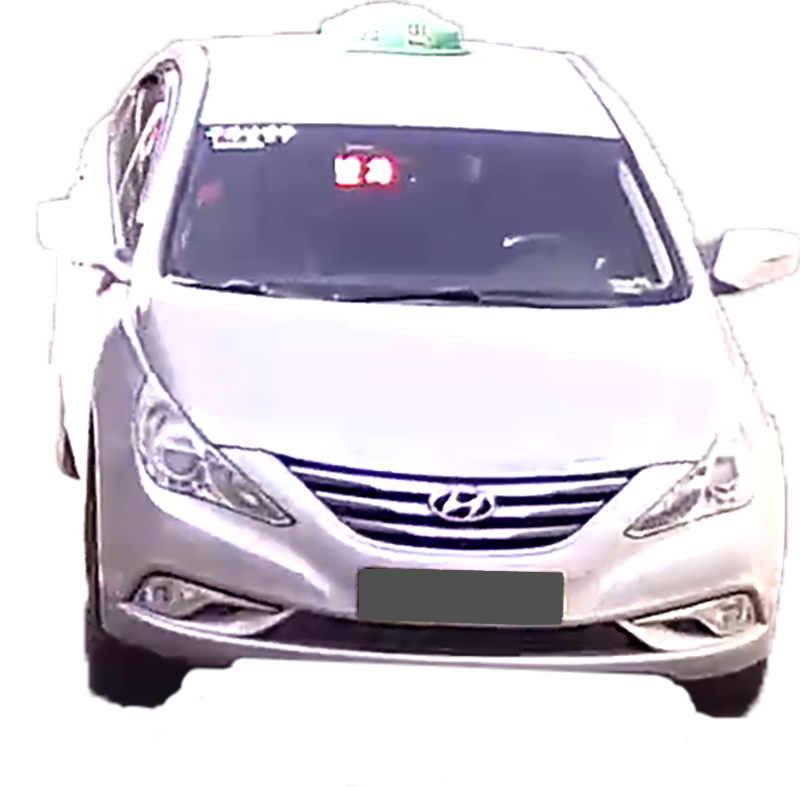P1_: (568, 572, 573, 578)
bbox: (357, 567, 567, 627)
